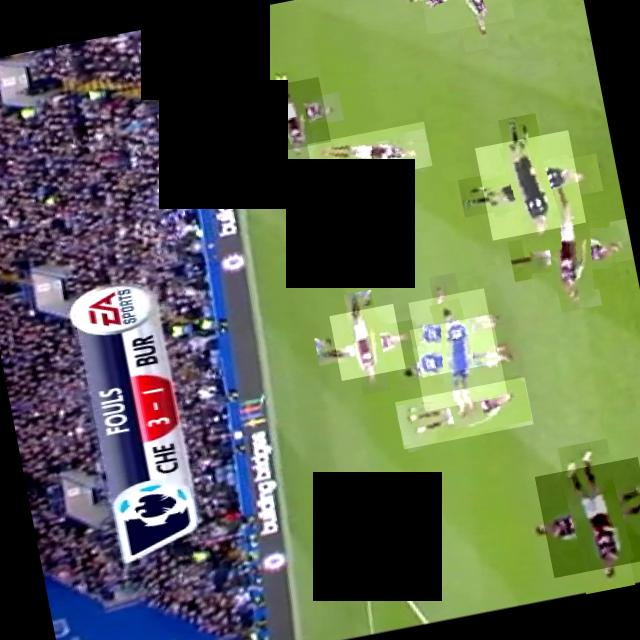referee: (475, 130, 586, 240), (180, 170, 244, 207)
soccer-player: (534, 456, 640, 577), (394, 376, 534, 448), (520, 200, 620, 300), (410, 313, 508, 411), (307, 120, 432, 188), (408, 288, 498, 377), (254, 76, 331, 153), (330, 303, 406, 380), (281, 180, 389, 232), (417, 0, 515, 34)
